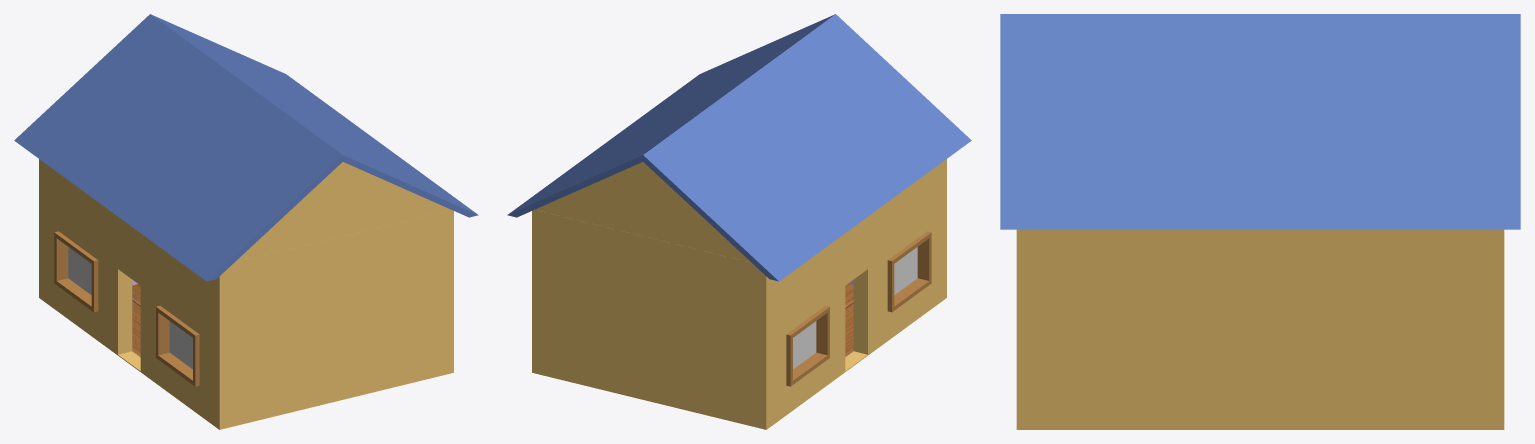
The model's file is starter shop.glb.
3 renders of one model, left to right at view 1: azimuth 30°, elevation 25°; view 2: azimuth 150°, elevation 25°; view 3: azimuth 270°, elevation 25°, orthographic. The views are drawn at different scales.
Visible parts, largest first — view 1: Shop, Roof.001, Roof wall, Window Frame, Window Frame 2, Glass Pane, Glass Pane.001, Floor; view 2: Shop, Roof.001, Roof wall, Window Frame 2, Window Frame, Glass Pane, Glass Pane.001, Floor; view 3: Roof.001, Shop.
Part boxes in pixels (bbox=[...]): Shop: bbox=[39, 159, 453, 429]; Roof.001: bbox=[14, 14, 478, 281]; Roof wall: bbox=[235, 162, 450, 262]; Window Frame: bbox=[54, 231, 98, 312]; Window Frame 2: bbox=[156, 305, 199, 386]; Glass Pane: bbox=[68, 247, 91, 294]; Glass Pane.001: bbox=[169, 321, 192, 369]; Floor: bbox=[132, 284, 140, 356]; Shop: bbox=[532, 159, 946, 429]; Roof.001: bbox=[507, 14, 971, 281]; Roof wall: bbox=[535, 162, 750, 262]; Window Frame 2: bbox=[887, 231, 931, 312]; Window Frame: bbox=[786, 305, 829, 386]; Glass Pane: bbox=[793, 321, 816, 369]; Glass Pane.001: bbox=[894, 247, 917, 294]; Floor: bbox=[845, 284, 853, 356]; Roof.001: bbox=[1000, 14, 1520, 229]; Shop: bbox=[1016, 229, 1504, 429].
Bounding box in the file's own units: 13.93 × 12.27 × 17.08.
5 materials, 1 textured.
